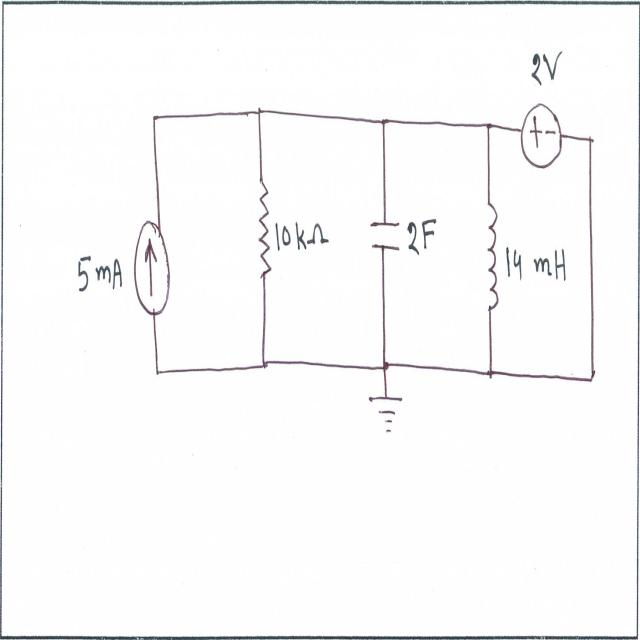capacitor: (366, 216, 409, 264)
current_source: (132, 217, 177, 333)
ground: (363, 388, 408, 443)
inductor: (484, 192, 500, 320)
resistor: (256, 170, 274, 290)
voltage_source: (516, 103, 566, 175)
